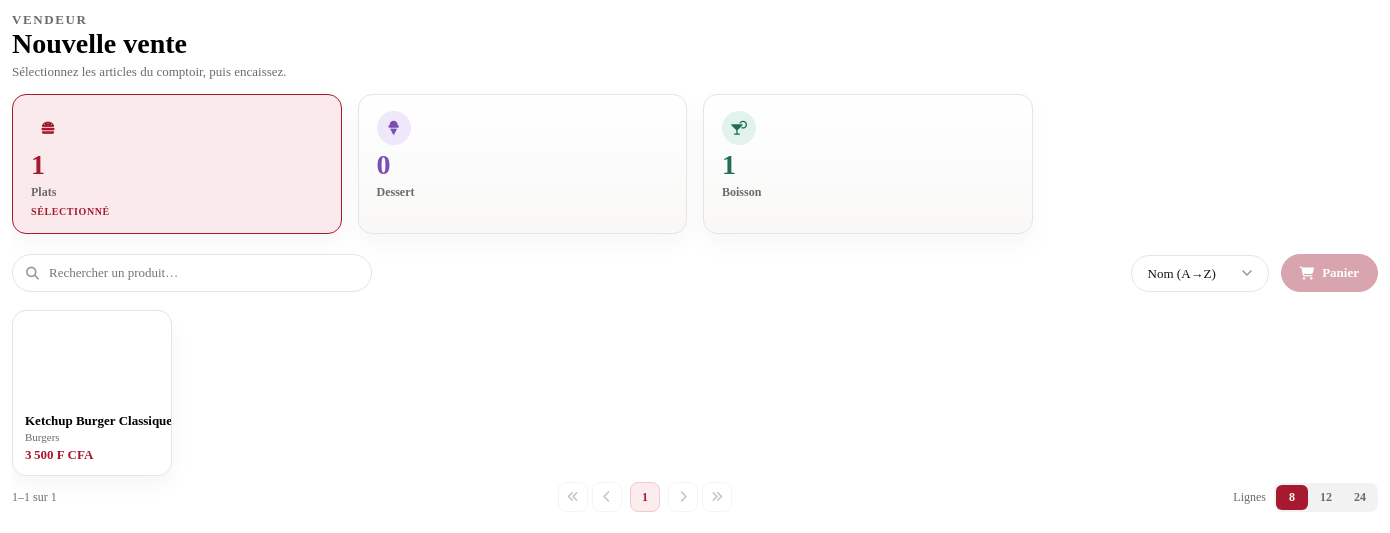
Vente (caisse Vendeur) › « Retour au catalogue » revient au catalogue en conservant le panier (badge inchangé)
Step 1. Click the text "Ketchup Burger Classique" → (99, 421), box [25,413,172,429]
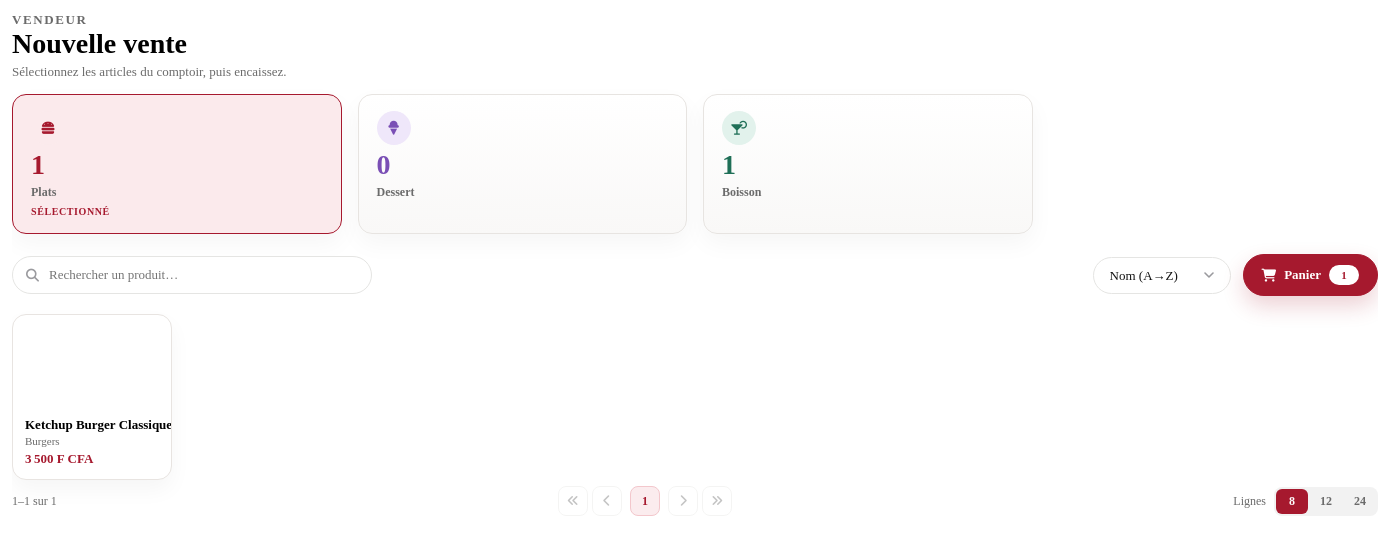
Step 2. Click the button with aria-label "Ouvrir le panier" → (1310, 275), box [1242,254,1378,296]
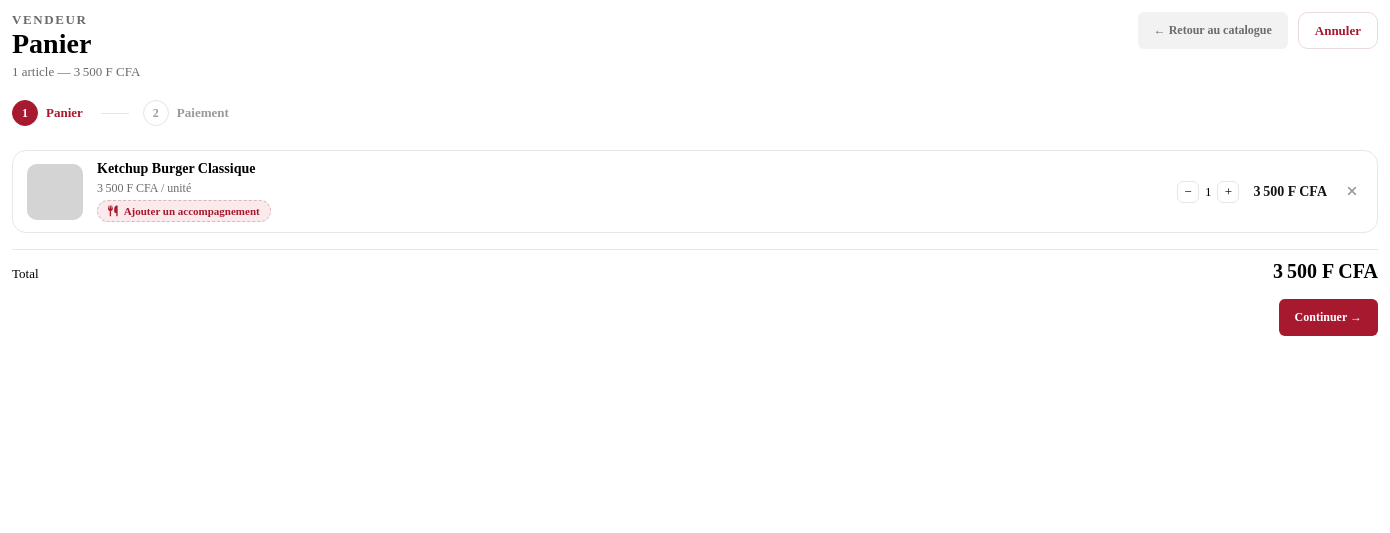
Step 3. Click the button "← Retour au catalogue" → (1213, 30), box [1138,12,1288,49]
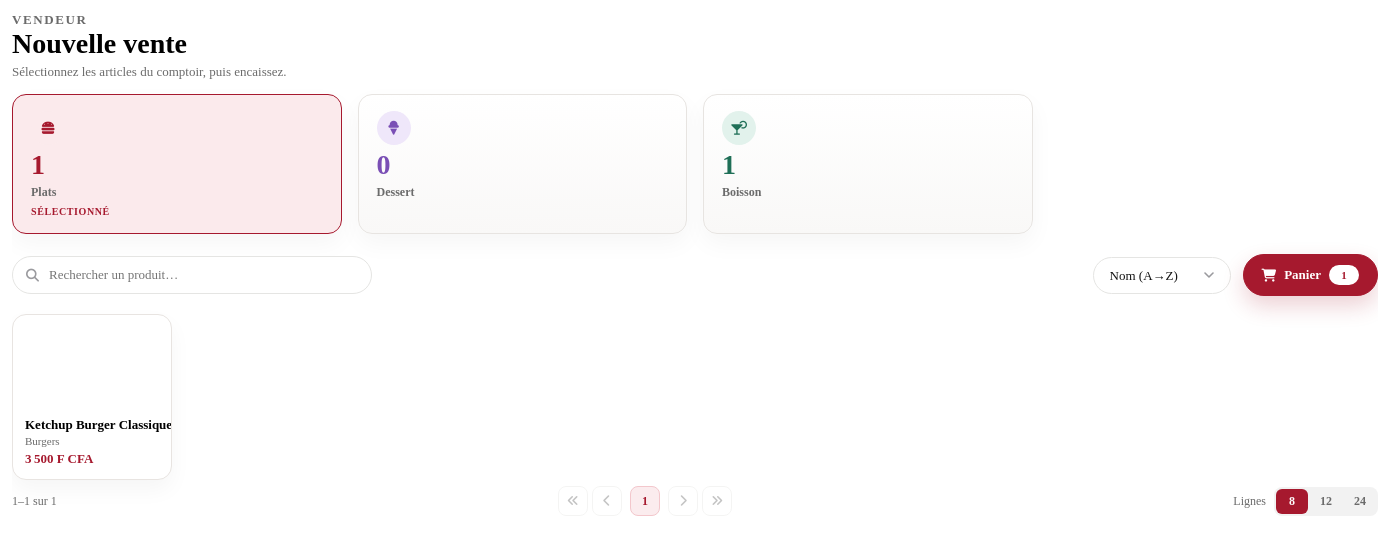
Check: the button with aria-label "Ouvrir le panier" shows "1", box [1242,254,1378,296]
Check: the heading "Nouvelle vente" is shown, box [12,28,187,59]
